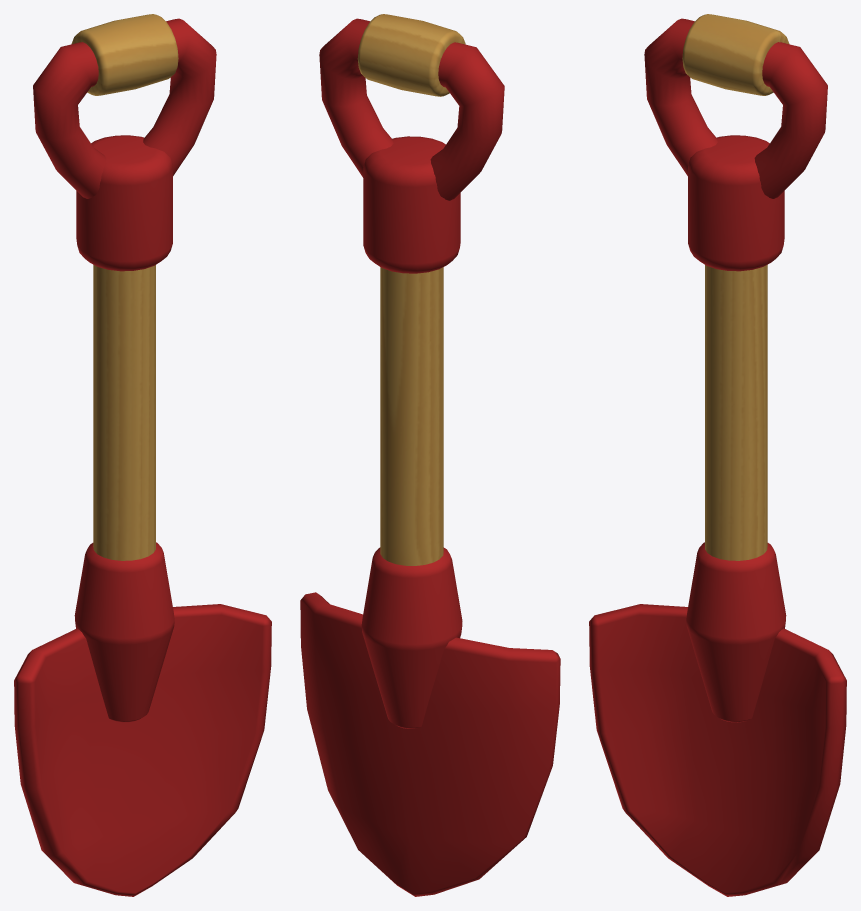
The model's file is shovel_red.fbx.
The picture shows the model from 3 angles, left to right: view 1: azimuth 30°, elevation 25°; view 2: azimuth 150°, elevation 25°; view 3: azimuth 330°, elevation 25°; orthographic projection.
Visible parts, largest first — view 1: polySurface11.002; view 2: polySurface11.002; view 3: polySurface11.002.
Part boxes in pixels (x1,y1,x2,y2): polySurface11.002: (14, 14, 271, 896); polySurface11.002: (300, 14, 560, 896); polySurface11.002: (589, 14, 846, 896).
Bounding box in the file's own units: 0.4591 × 1.5 × 0.1576.
